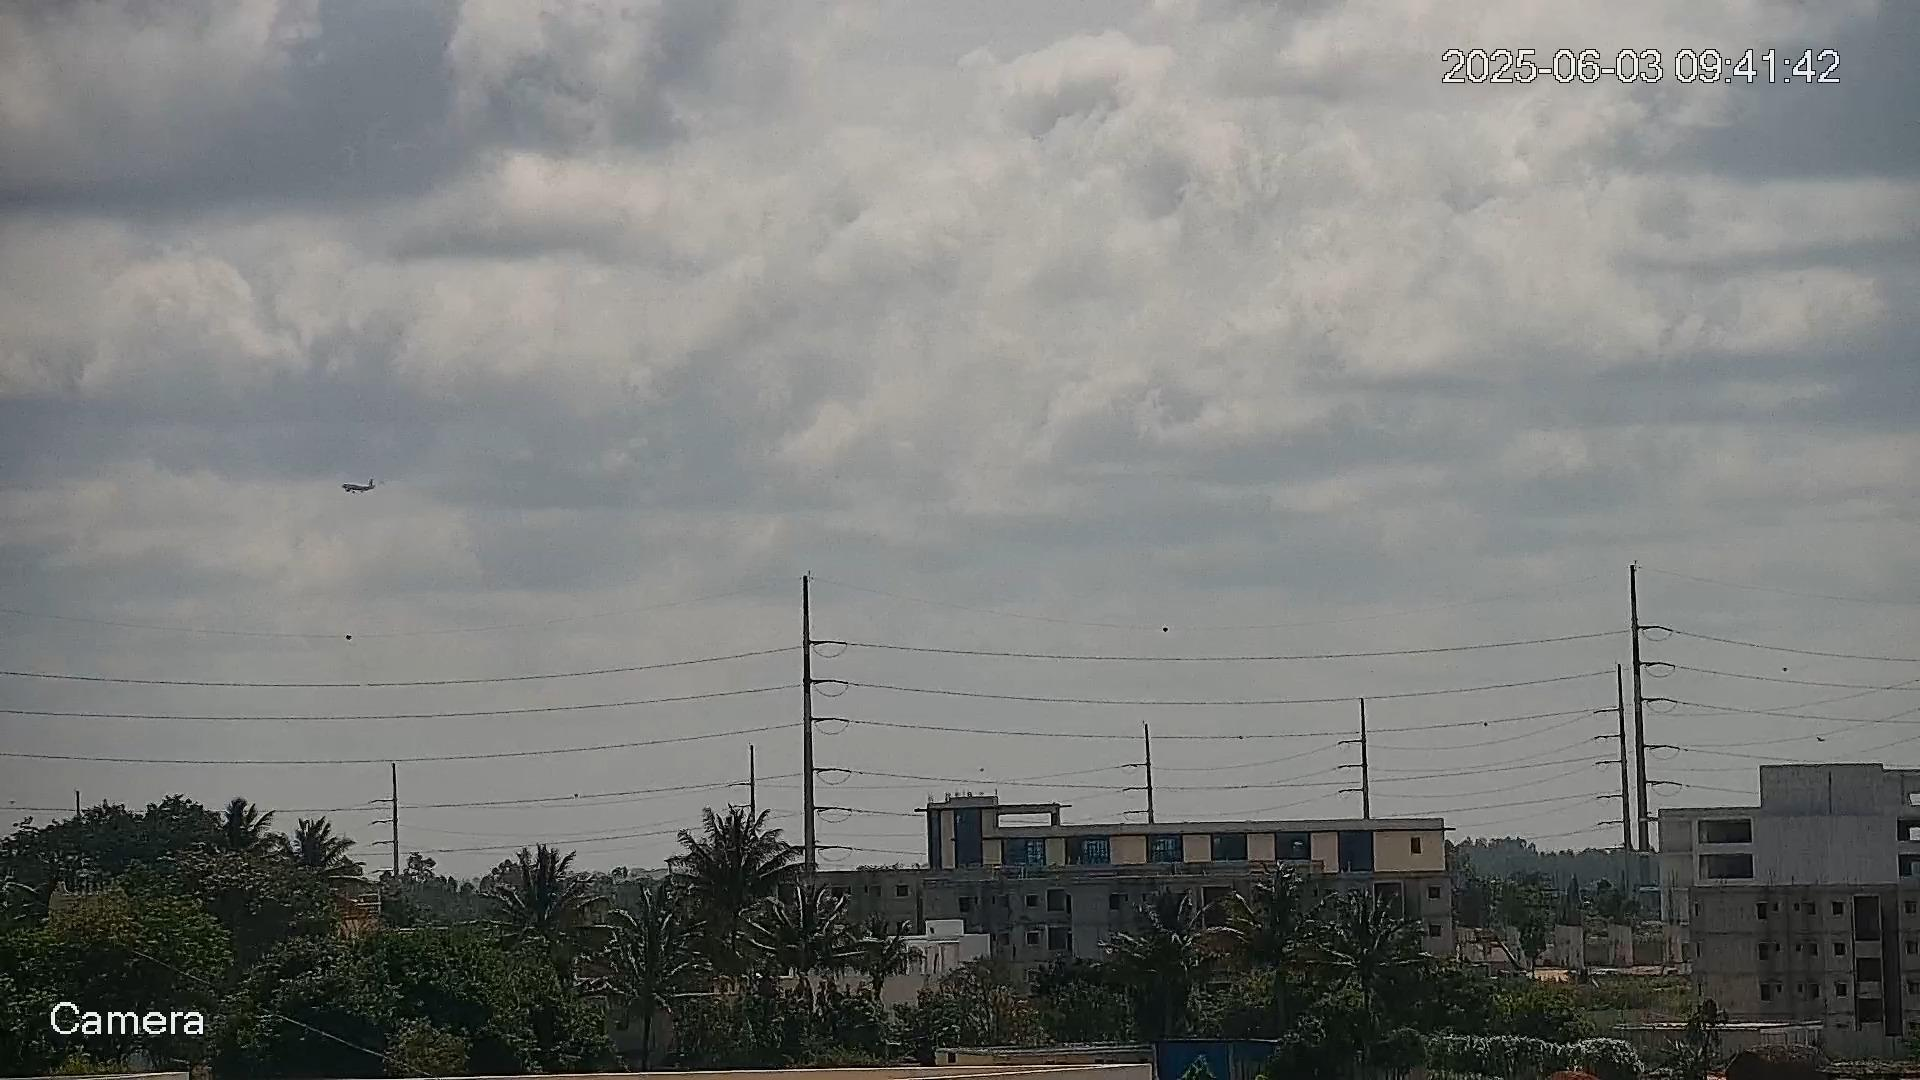Aircraft: (340, 477, 378, 493)
